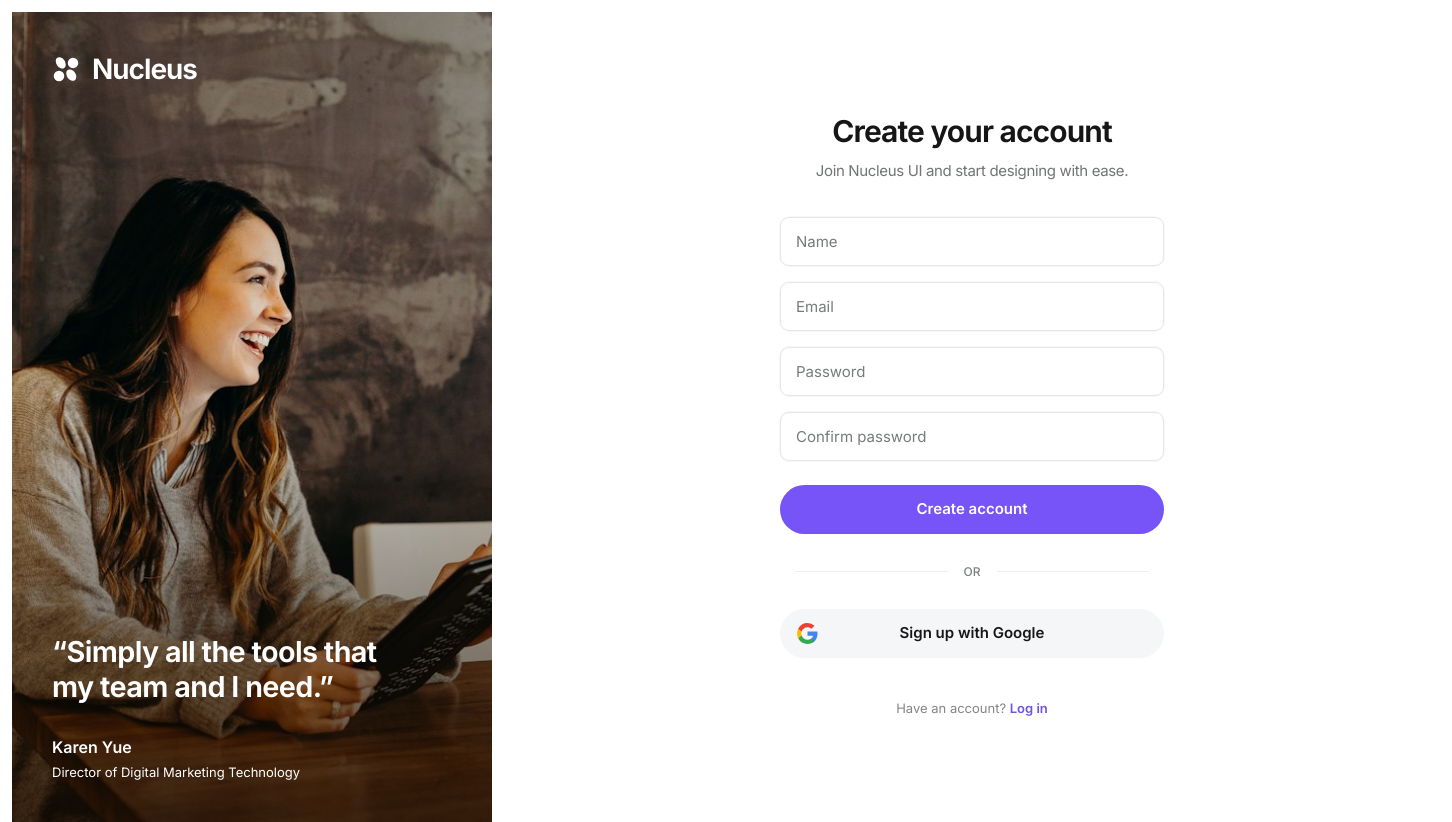
Registration form › explains the scope of Google sign-up and Log in
Click the button with class "button--google". click: [972, 633]
box: [780,609,1164,658]
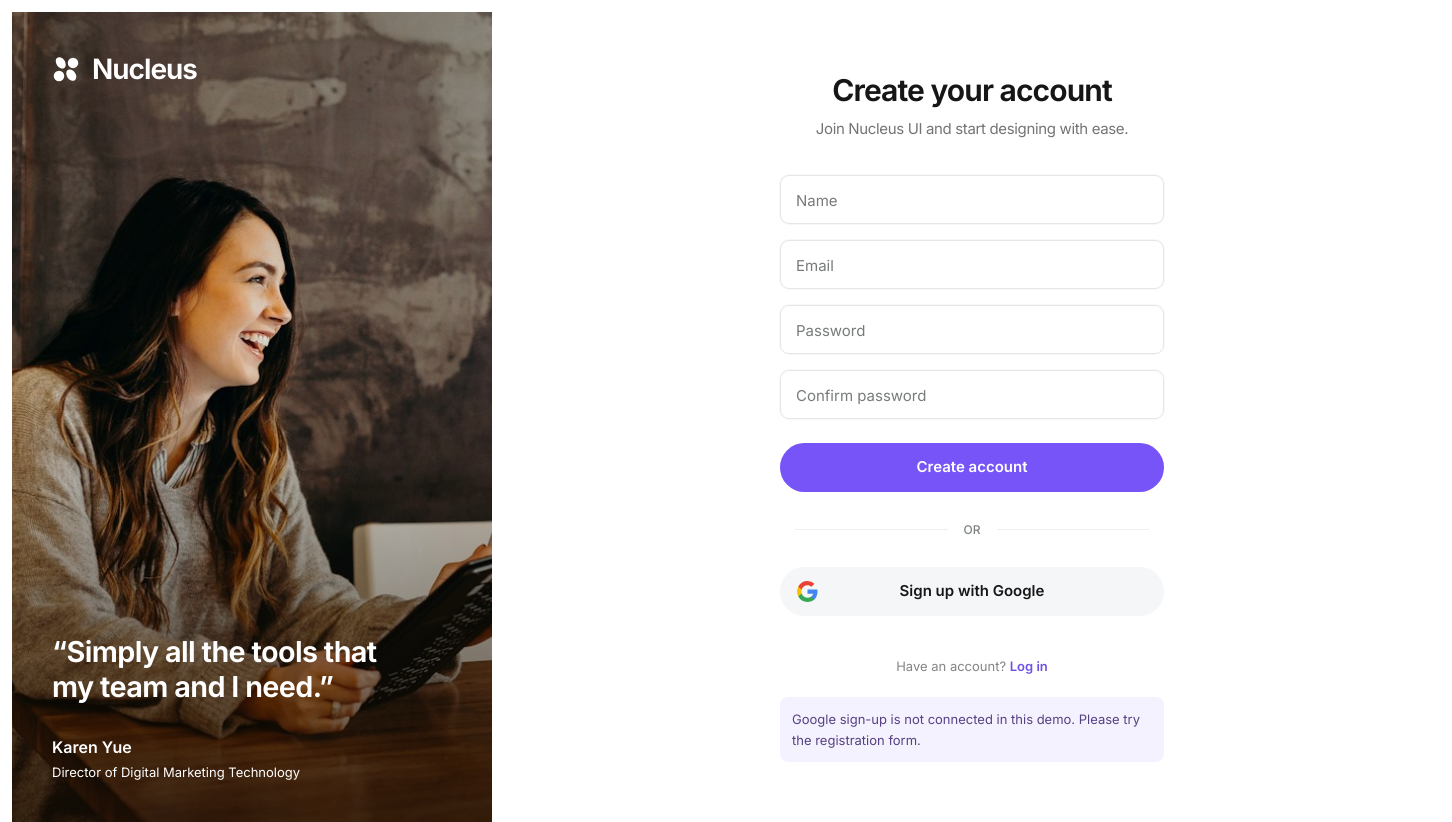
Check: the message shows "Google sign-up is not connected", box [792,711,1140,748]
Click the button "Log in". click: [1029, 666]
box: [1010,654,1048,679]
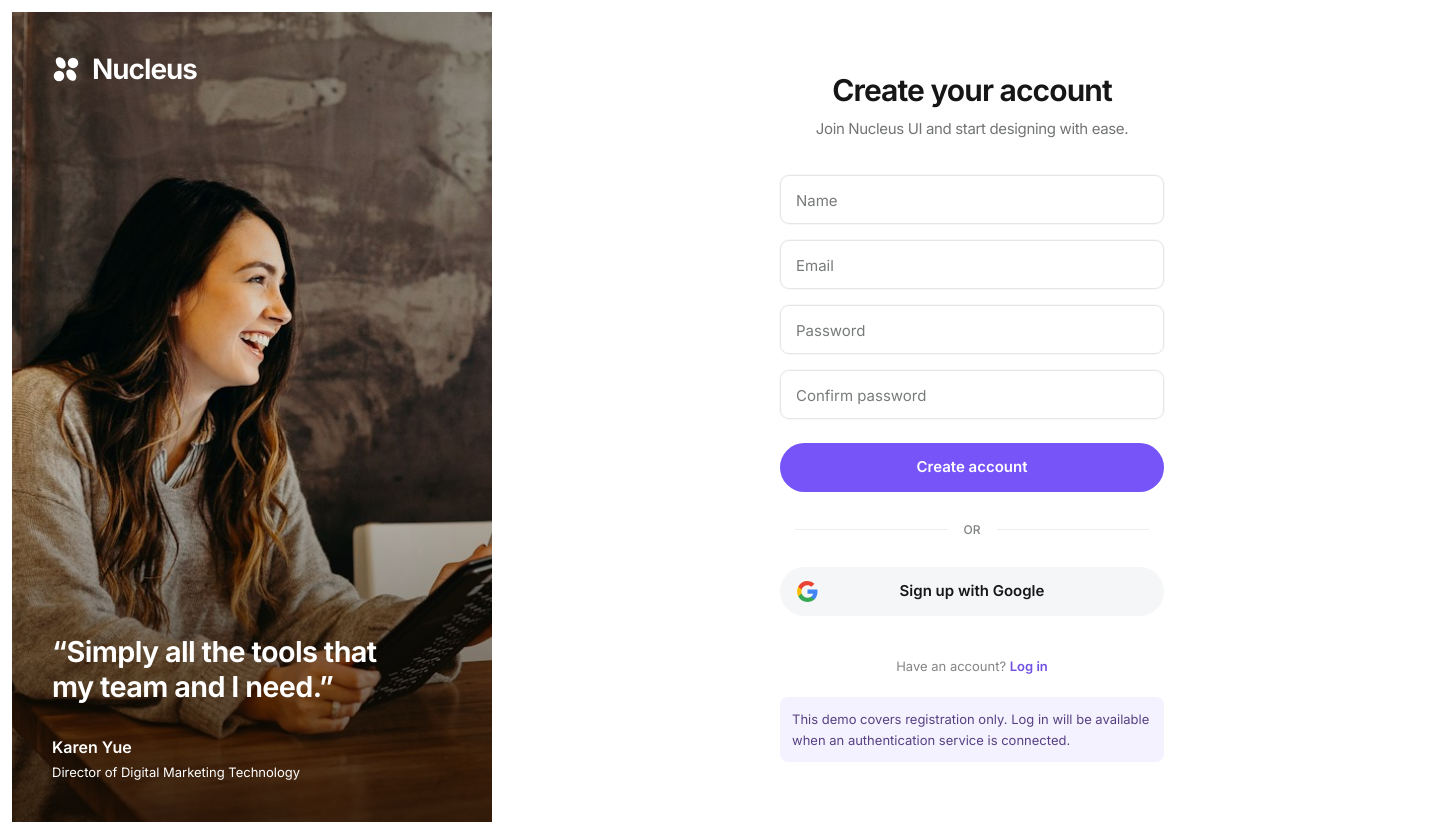
Check: the message shows "registration only", box [792,711,1149,748]
